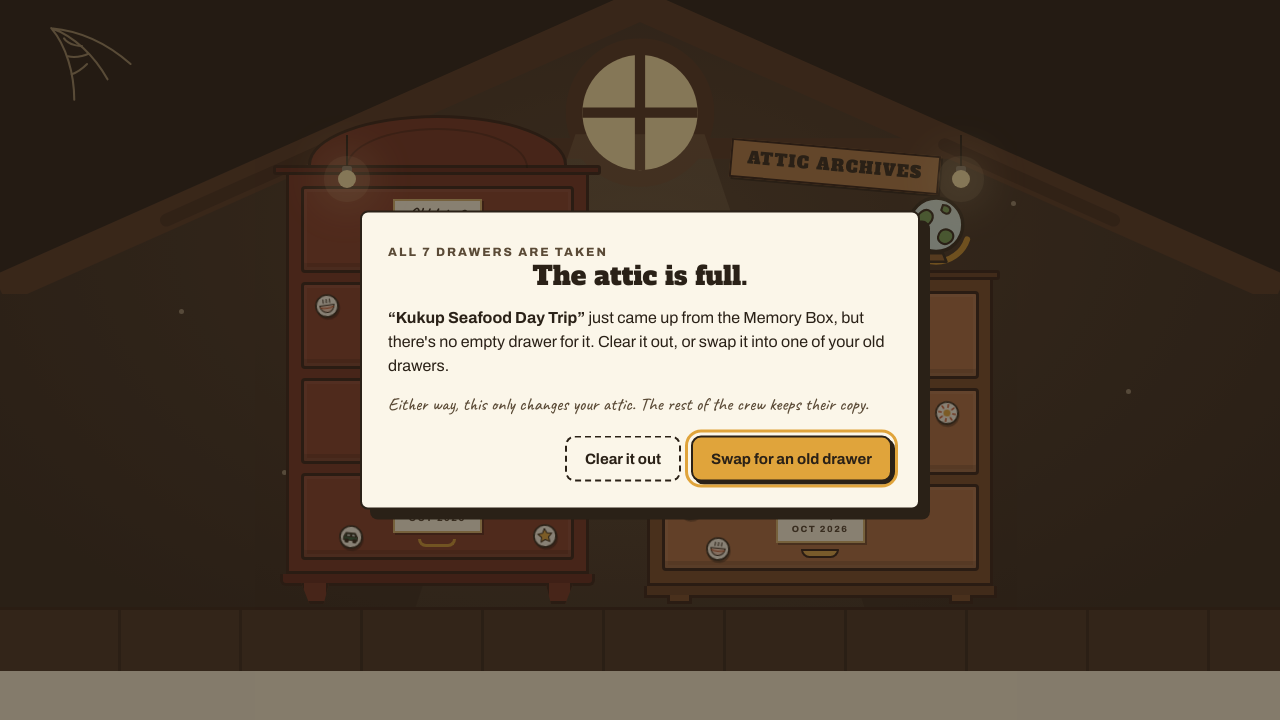
Scenario: ArchivesView › when an 8th trip arrives › asks the user to clear it out or swap it, and can clear it
Expected: the dialog shows "Kukup Seafood Day Trip", x1=388 y1=309 x2=585 y2=326
Click the button "Clear it out".
click(623, 458)  # box x1=565 y1=435 x2=681 y2=481
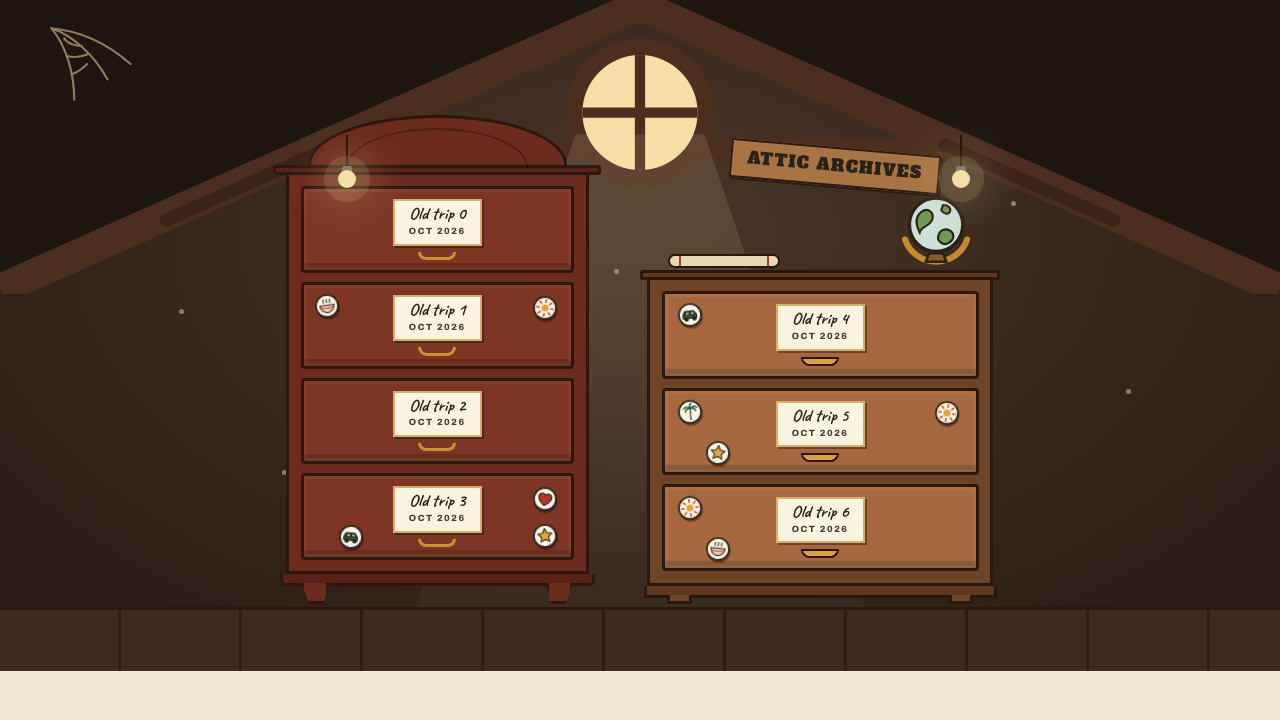
Now the dialog is gone
